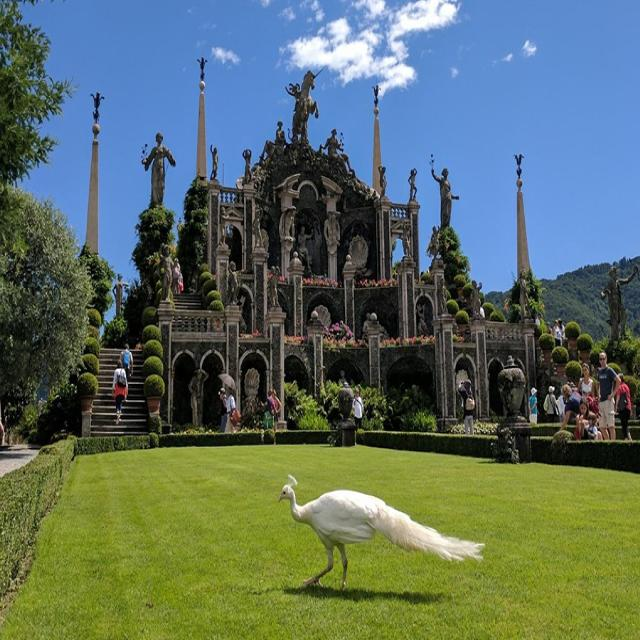body: (138, 127, 178, 215), (599, 262, 640, 344), (284, 66, 323, 145), (596, 351, 622, 442), (320, 123, 356, 179), (429, 164, 458, 233), (614, 371, 634, 441), (187, 364, 209, 426), (110, 357, 129, 427), (260, 117, 287, 161), (457, 378, 476, 435), (559, 383, 582, 430), (222, 384, 242, 435), (296, 223, 313, 276), (260, 387, 279, 432), (160, 241, 174, 301), (225, 259, 242, 307), (112, 270, 128, 320), (324, 208, 342, 252), (252, 199, 266, 254), (350, 386, 366, 432), (516, 267, 529, 323), (118, 341, 134, 384), (542, 384, 560, 422), (578, 361, 596, 398), (469, 277, 484, 321), (427, 223, 442, 266), (278, 204, 294, 243), (206, 142, 220, 183), (400, 220, 414, 260), (435, 274, 448, 314), (240, 145, 253, 185), (361, 310, 375, 346), (575, 397, 590, 430), (271, 387, 282, 432), (407, 165, 419, 205), (560, 385, 570, 432), (219, 203, 229, 250), (584, 412, 599, 441), (377, 162, 388, 200), (268, 265, 278, 306), (528, 386, 538, 426), (219, 389, 228, 433), (171, 256, 181, 294), (534, 310, 543, 342), (557, 319, 566, 347), (553, 319, 561, 348), (566, 380, 576, 391), (546, 320, 552, 335)
